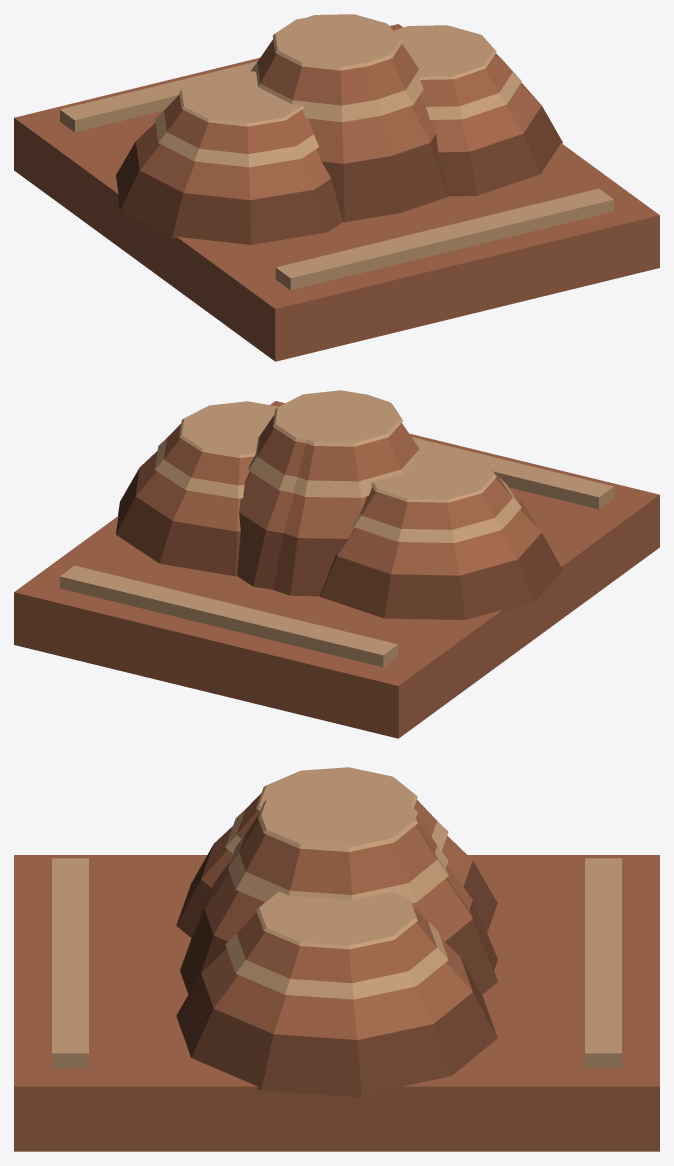
The model's file is Desert_MineRoof_Standard.glb.
The picture shows the model from 3 angles, top to bottom: view 1: azimuth 30°, elevation 25°; view 2: azimuth 150°, elevation 25°; view 3: azimuth 270°, elevation 25°; orthographic projection. The views are drawn at different scales.
Visible parts, largest first — view 1: Desert_MineRoof_Standard; view 2: Desert_MineRoof_Standard; view 3: Desert_MineRoof_Standard.
Part boxes in pixels (bbox=[...]): Desert_MineRoof_Standard: bbox=[14, 14, 659, 361]; Desert_MineRoof_Standard: bbox=[14, 390, 659, 738]; Desert_MineRoof_Standard: bbox=[14, 767, 659, 1151].
Bounding box in the file's own units: 5.76 × 2.38 × 6.3.
